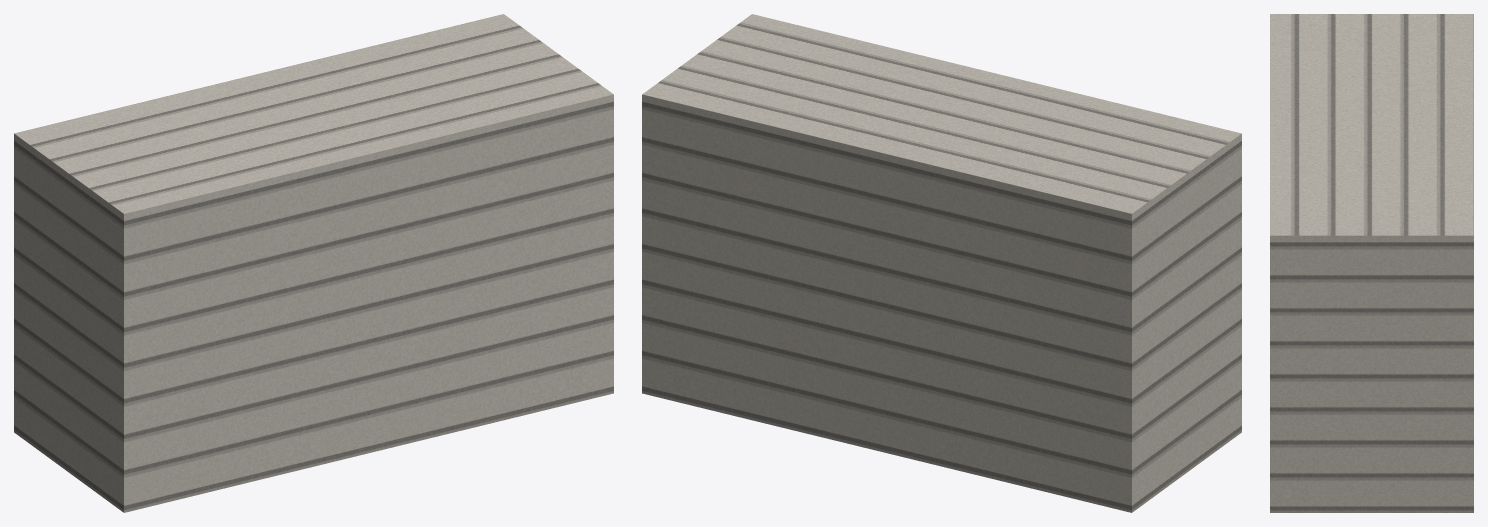
The model's file is reception_front_desk.glb.
The picture shows the model from 3 angles, left to right: view 1: azimuth 30°, elevation 25°; view 2: azimuth 150°, elevation 25°; view 3: azimuth 270°, elevation 25°; orthographic projection. The views are drawn at different scales.
Visible parts, largest first — view 1: reception_front_desk-col; view 2: reception_front_desk-col; view 3: reception_front_desk-col.
Part boxes in pixels (box(x1,y1,x2,y2)): reception_front_desk-col: box(14, 14, 613, 512); reception_front_desk-col: box(642, 14, 1241, 512); reception_front_desk-col: box(1270, 14, 1473, 512).
Size of the model in its own units: 1.8 by 1.05 by 0.7.
Materials: 1 (1 with a texture image).
